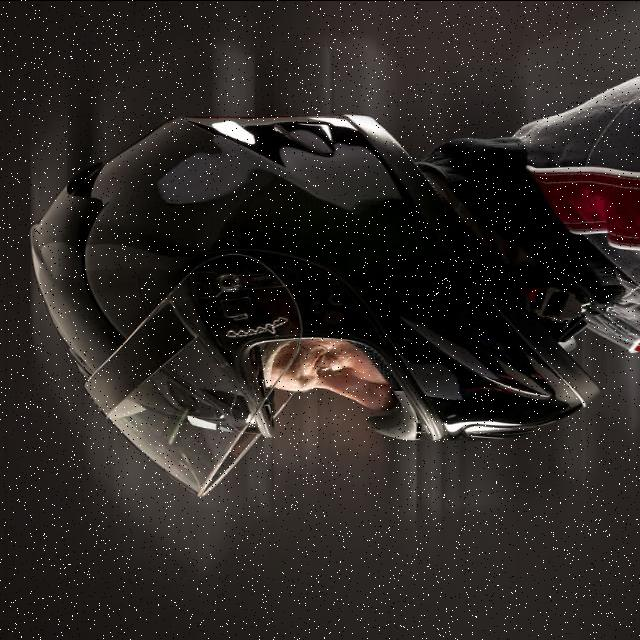Helm: (25, 108, 598, 496)
